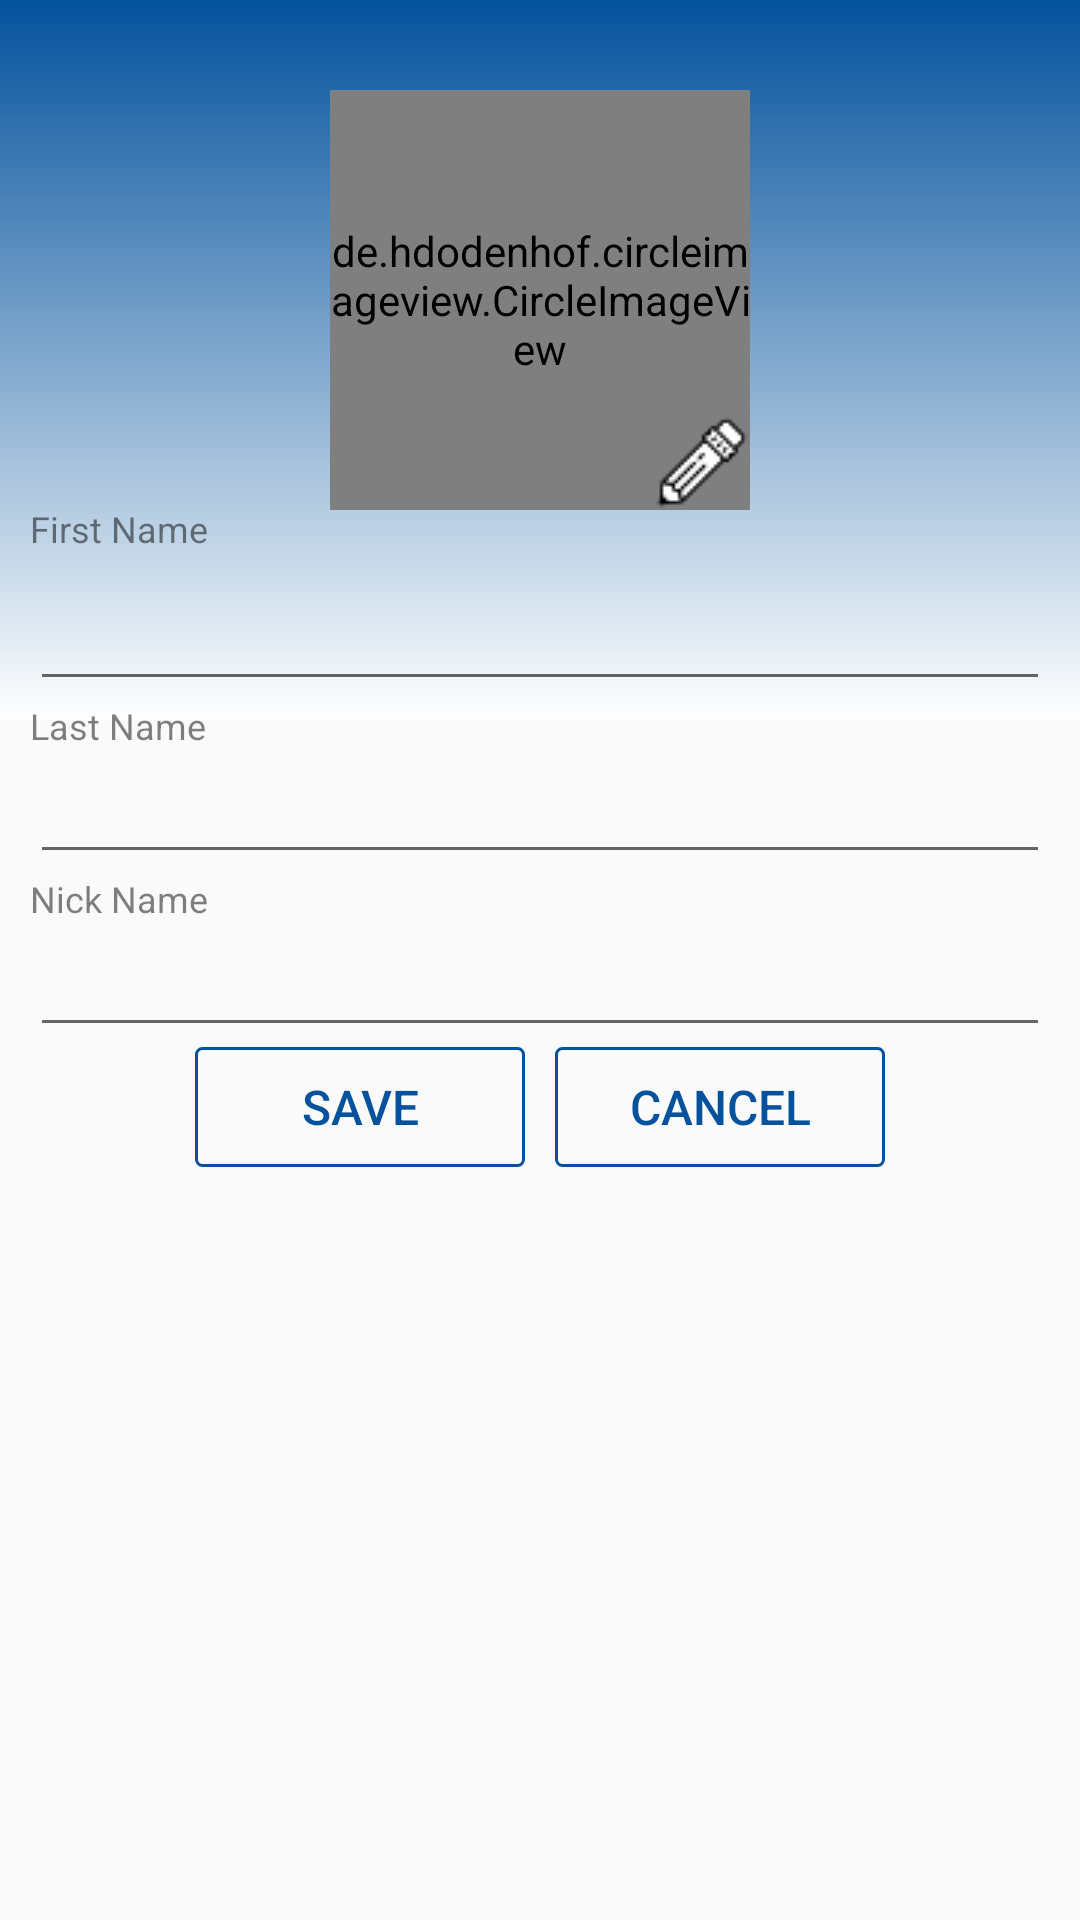

Where to tap for icons on this 1080w x 1920h app screen, as [x,y]:
edit: [701,463]
